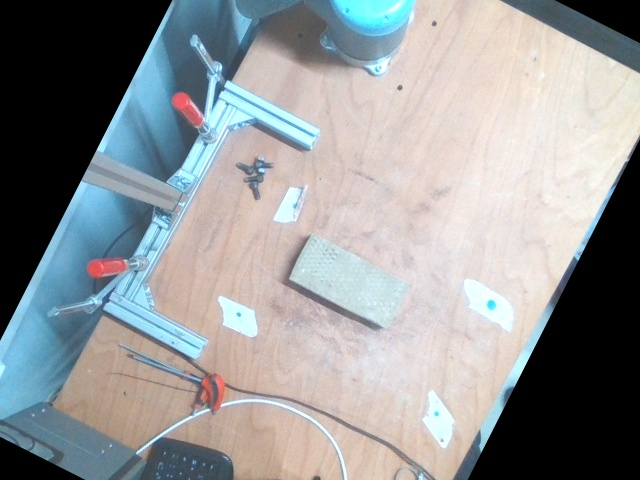brick: (291, 235, 408, 327)
